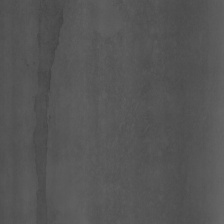water_spot: (29, 5, 63, 216)
